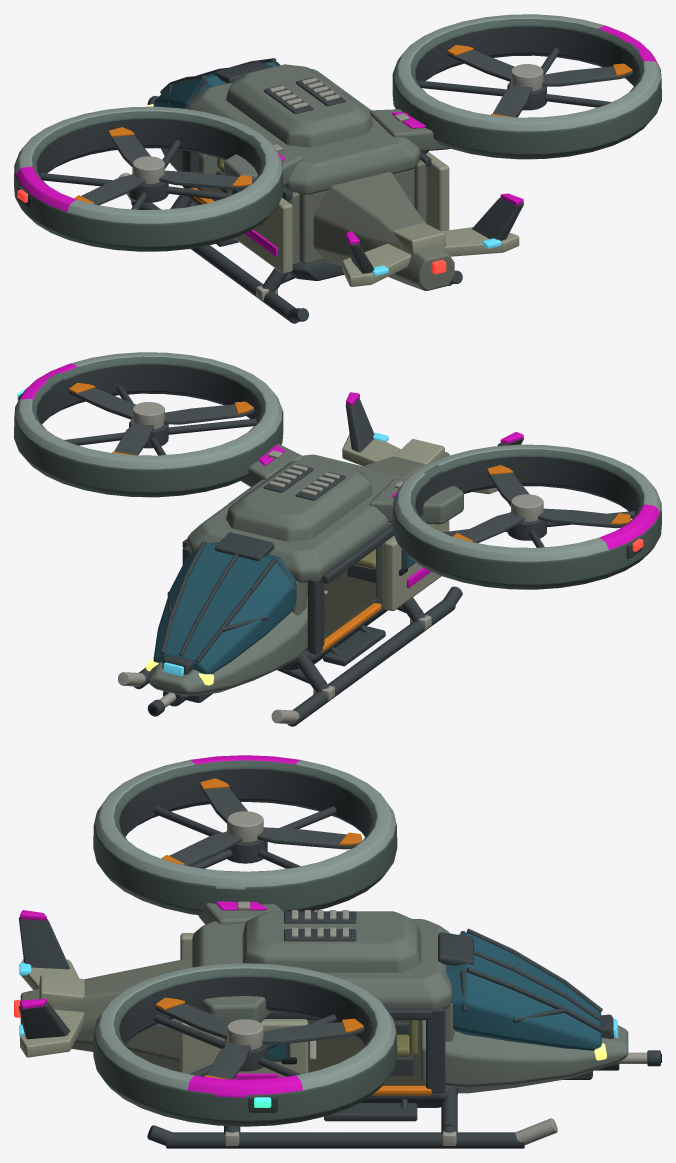
File: tiltrotor.glb
3 renders of one model, top to bottom at view 1: azimuth 30°, elevation 25°; view 2: azimuth 150°, elevation 25°; view 3: azimuth 270°, elevation 25°, orthographic. The views are drawn at different scales.
Parts seen in each view (by area): view 1: Airframe, NacelleLeft, NacelleRight, RotorRight, RotorLeft, LandingSkids, TroopDoorLeft, TroopDoorRight; view 2: Airframe, NacelleRight, NacelleLeft, LandingSkids, RotorRight, RotorLeft, TroopDoorLeft; view 3: Airframe, NacelleLeft, NacelleRight, LandingSkids, RotorRight, RotorLeft, TroopDoorRight.
Part boxes in pixels (left/top/right/bottom): Airframe: left=147, top=58, right=523, bottom=290; NacelleLeft: left=14, top=106, right=283, bottom=251; NacelleRight: left=392, top=14, right=661, bottom=159; RotorRight: left=447, top=45, right=632, bottom=117; RotorLeft: left=74, top=127, right=252, bottom=205; LandingSkids: left=118, top=172, right=462, bottom=323; TroopDoorLeft: left=227, top=189, right=292, bottom=273; TroopDoorRight: left=426, top=152, right=449, bottom=231; Airframe: left=146, top=392, right=523, bottom=716; NacelleRight: left=14, top=352, right=283, bottom=497; NacelleLeft: left=392, top=444, right=661, bottom=589; LandingSkids: left=118, top=586, right=462, bottom=726; RotorRight: left=69, top=382, right=254, bottom=455; RotorLeft: left=453, top=465, right=630, bottom=542; TroopDoorLeft: left=384, top=520, right=449, bottom=610; Airframe: left=14, top=901, right=661, bottom=1121; NacelleLeft: left=93, top=755, right=397, bottom=915; NacelleRight: left=93, top=963, right=397, bottom=1126; LandingSkids: left=147, top=1085, right=557, bottom=1148; RotorRight: left=155, top=997, right=364, bottom=1079; RotorLeft: left=161, top=778, right=362, bottom=866; TroopDoorRight: left=180, top=1019, right=308, bottom=1079.
Size of the model in its own units: 4.63 by 1.18 by 3.72.
